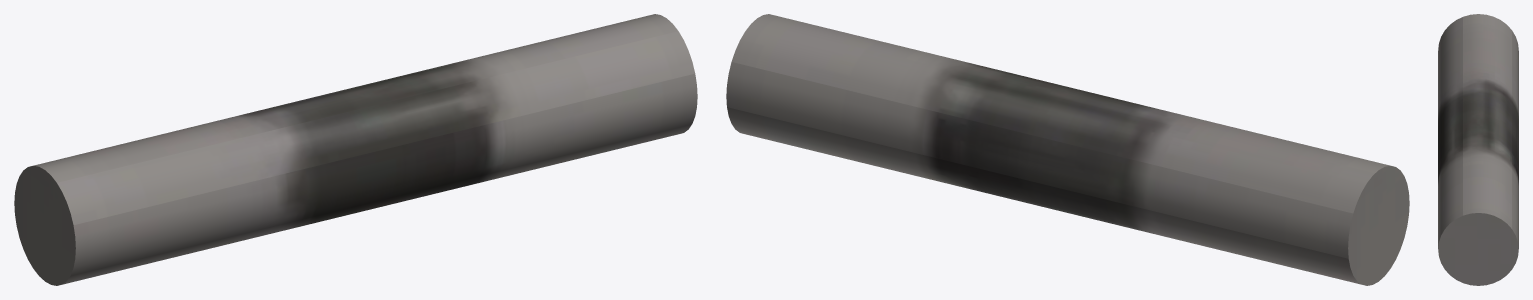
Rendered from housing__caster_axle_3.glb.
3 views of the same model, side by side, from view 1: azimuth 30°, elevation 25°; view 2: azimuth 150°, elevation 25°; view 3: azimuth 270°, elevation 25° (orthographic). The views are drawn at different scales.
Visible parts, largest first — view 1: geometry_0; view 2: geometry_0; view 3: geometry_0.
Boxes of the visible parts, x1,y1,x2,y2 form: geometry_0: [14, 14, 697, 285]; geometry_0: [726, 14, 1409, 285]; geometry_0: [1438, 14, 1518, 285].
Bounding box in the file's own units: 0.07 × 0.012 × 0.012.
1 material, 1 textured.
